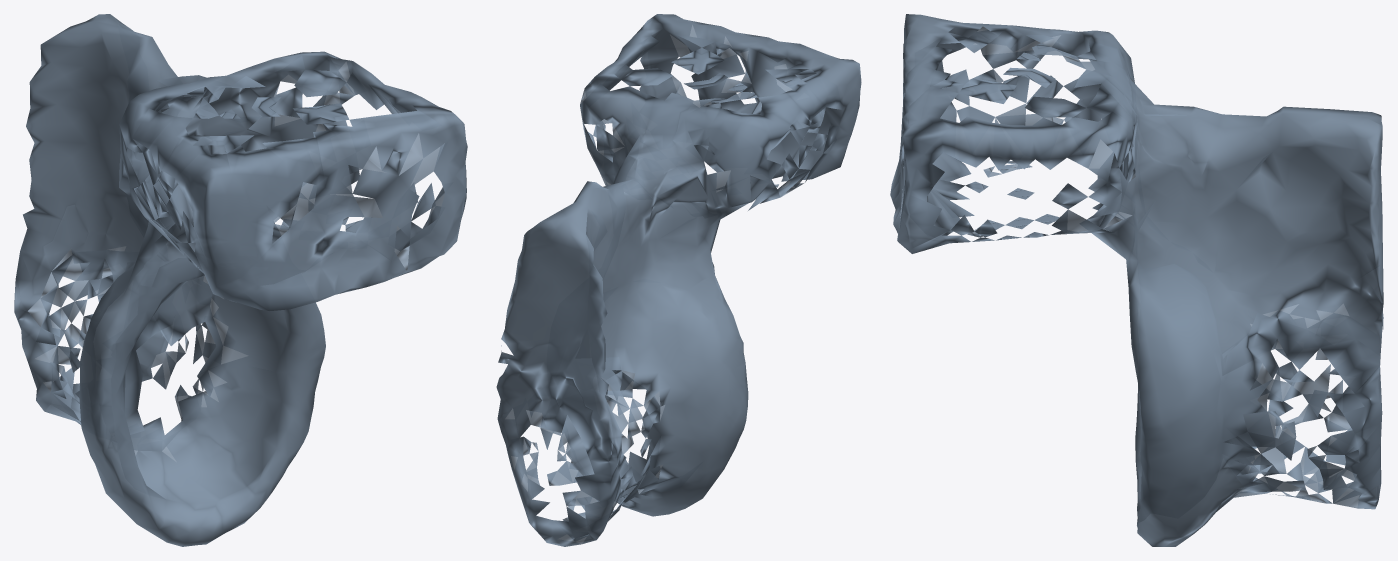
The model's file is toilet_0442_recon.obj.
3 views of the same model, side by side, from view 1: azimuth 30°, elevation 25°; view 2: azimuth 150°, elevation 25°; view 3: azimuth 270°, elevation 25° (orthographic). The views are drawn at different scales.
Bounding box in the file's own units: 0.7999 × 1.44 × 1.36.
